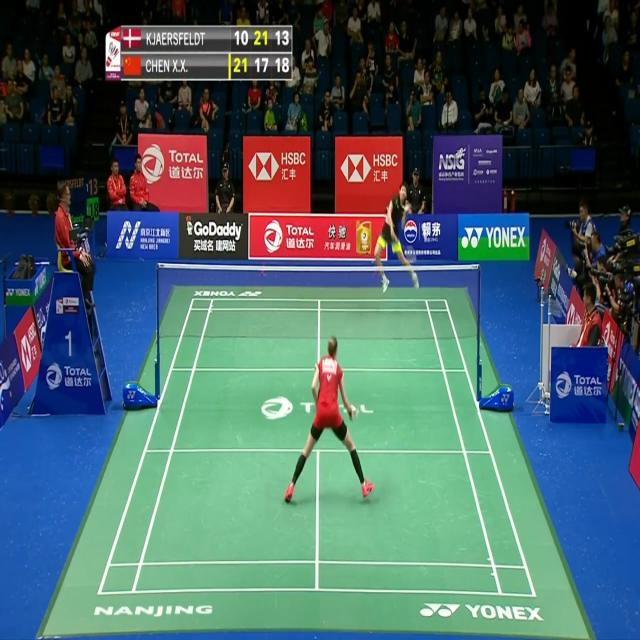Player1: (282, 330, 376, 506)
Player2: (371, 177, 421, 305)
